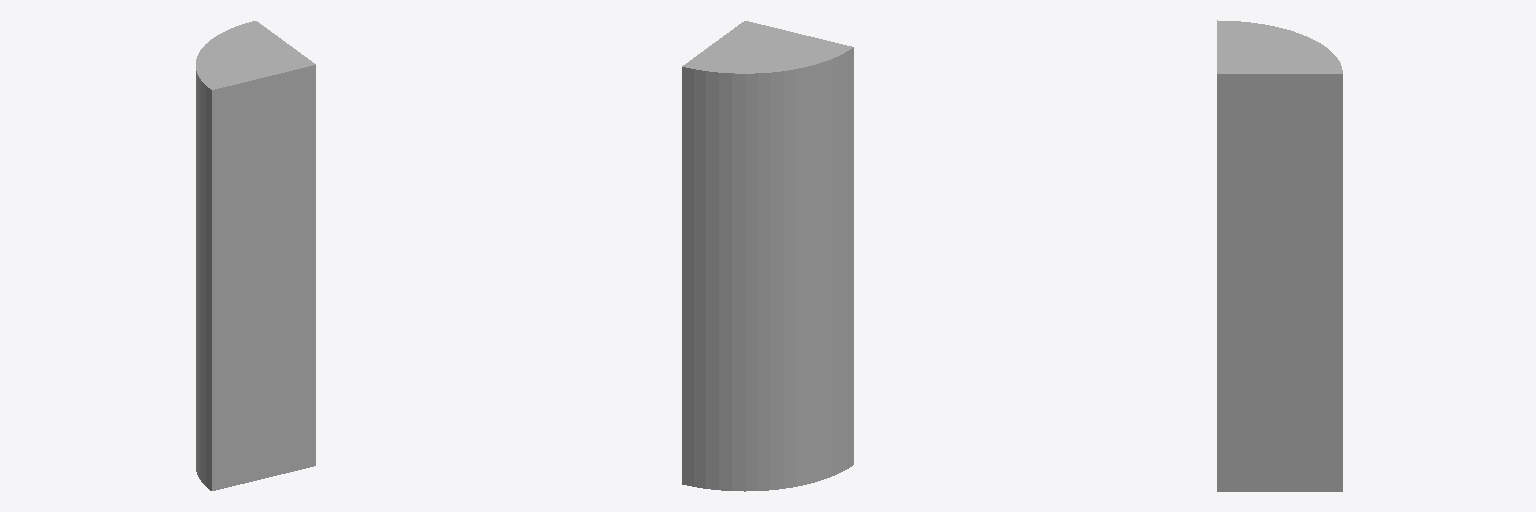
robot.urdf — root:
<robot name="root">
  <link name="link_flat top pencil_convex_piece_0">
    <inertial>
      <origin xyz="0 0 0" rpy="0 0 0"/>
      <mass value="3.02E-01"/>
      <inertia ixx="9.49E-04" ixy="-1.68E-05" ixz="-0.00E+00" iyy="9.49E-04" iyz="-1.36E-21" izz="1.12E-04"/>
    </inertial>
    <visual>
      <origin xyz="0 0 0" rpy="0 0 0"/>
      <geometry>
        <mesh filename="flat top pencil_convex_piece_0.obj" scale="1.0000E+00 1.0000E+00 1.0000E+00"/>
      </geometry>
      <material name="">
        <color rgba="7.50E-01 7.50E-01 7.50E-01 1"/>
      </material>
    </visual>
    <collision>
      <origin xyz="0 0 0" rpy="0 0 0"/>
      <geometry>
        <mesh filename="flat top pencil_convex_piece_0.obj" scale="1.0000E+00 1.0000E+00 1.0000E+00"/>
      </geometry>
    </collision>
  </link>
</robot>

--- Render facts (derived) ---
The picture shows the robot from 3 angles, left to right: view 1: azimuth 30°, elevation 25°; view 2: azimuth 150°, elevation 25°; view 3: azimuth 270°, elevation 25°; orthographic projection.
Robot: root — 1 links, 0 joints (none); root link link_flat top pencil_convex_piece_0; default pose: all joints at 0.
Visible links, largest first — view 1: link_flat top pencil_convex_piece_0; view 2: link_flat top pencil_convex_piece_0; view 3: link_flat top pencil_convex_piece_0.
Link boxes in pixels (bbox=[...]): link_flat top pencil_convex_piece_0: bbox=[196, 21, 315, 490]; link_flat top pencil_convex_piece_0: bbox=[682, 21, 853, 491]; link_flat top pencil_convex_piece_0: bbox=[1217, 20, 1342, 491].
Size in the robot's own frame: 0.0515 by 0.0515 by 0.1885 metres.
1 mesh visuals loaded from 1 distinct referenced files (1 OBJ).
